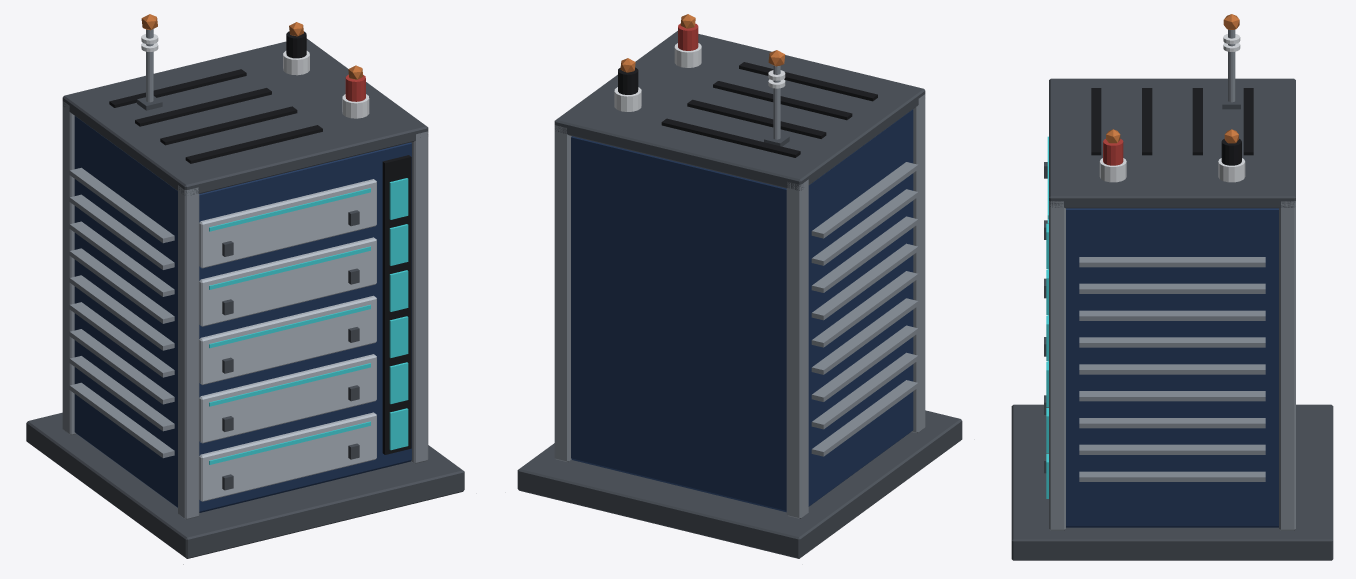
File: accumulateur_t3.glb
3 views of the same model, side by side, from view 1: azimuth 30°, elevation 25°; view 2: azimuth 150°, elevation 25°; view 3: azimuth 270°, elevation 25° (orthographic).
Visible parts, largest first — view 1: pieces_acier_sombre.016, pieces_gris_clair.006, pieces_panneau.004, pieces_acier.018, pieces_noir.014, pieces_cyan.004, pieces_blanc.018, voyant_charge_0.002, voyant_charge_1.002, voyant_charge_2.002, voyant_charge_4.002, voyant_charge_5.002 (+2 smaller); view 2: pieces_panneau.004, pieces_acier_sombre.016, pieces_acier.018, pieces_noir.014, pieces_blanc.018, pieces_cuivre.018; view 3: pieces_panneau.004, pieces_acier_sombre.016, pieces_acier.018, pieces_noir.014, pieces_blanc.018, pieces_cuivre.018, pieces_rouge.010.
Boxes of the visible parts, x1,y1,x2,y2 form: pieces_acier_sombre.016: (26,38,464,558); pieces_gris_clair.006: (199,179,376,501); pieces_panneau.004: (74,116,411,512); pieces_acier.018: (62,29,428,519); pieces_noir.014: (109,31,411,454); pieces_cyan.004: (209,188,370,464); pieces_blanc.018: (141,34,369,118); voyant_charge_0.002: (389,408,408,450); voyant_charge_1.002: (389,362,408,403); voyant_charge_2.002: (389,316,408,357); voyant_charge_4.002: (389,224,408,265); voyant_charge_5.002: (389,178,408,219); pieces_panneau.004: (571,109,913,512); pieces_acier_sombre.016: (517,31,962,558); pieces_acier.018: (554,65,925,518); pieces_noir.014: (618,62,877,157); pieces_blanc.018: (614,43,785,111); pieces_cuivre.018: (620,14,785,72); pieces_panneau.004: (1066,208,1278,527); pieces_acier_sombre.016: (1011,78,1333,560); pieces_acier.018: (1049,29,1295,530); pieces_noir.014: (1091,88,1253,165); pieces_blanc.018: (1099,34,1245,182); pieces_cuivre.018: (1106,14,1239,143); pieces_rouge.010: (1103,139,1123,165).
Bounding box in the file's own units: 1 × 1.46 × 1.
